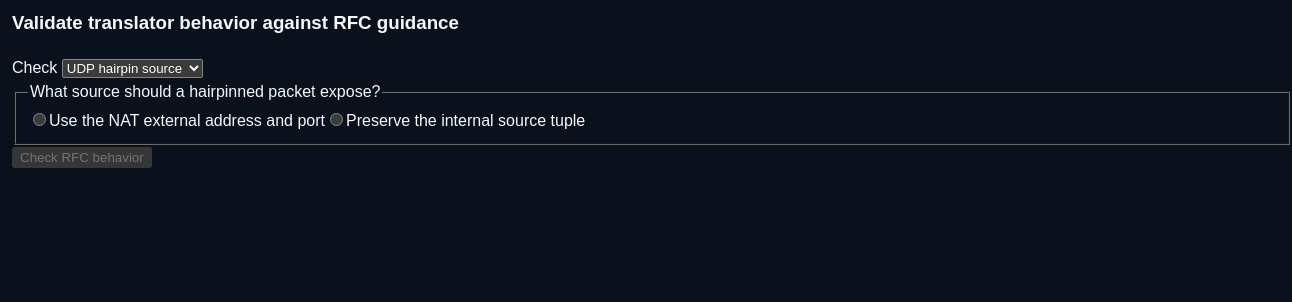
it: NAT RFC validation › reveals the RFC rule and operational consequence after every choice
What coordinates should you click on to do the following:
click the radio button labelled "Preserve the internal source tuple"
I would click on:
 (336, 120)
Its box is x1=330 y1=113 x2=343 y2=126.
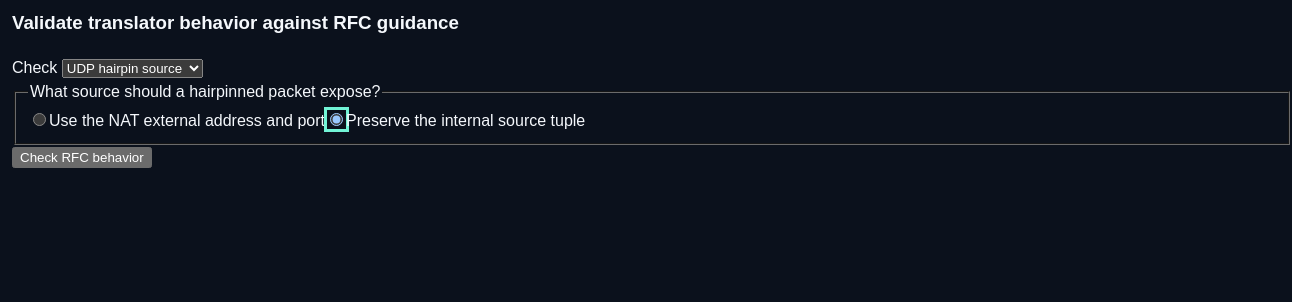
What coordinates should you click on to do the following:
click the button "Check RFC behavior"
I would click on:
 (82, 158)
Its box is x1=12 y1=147 x2=152 y2=168.
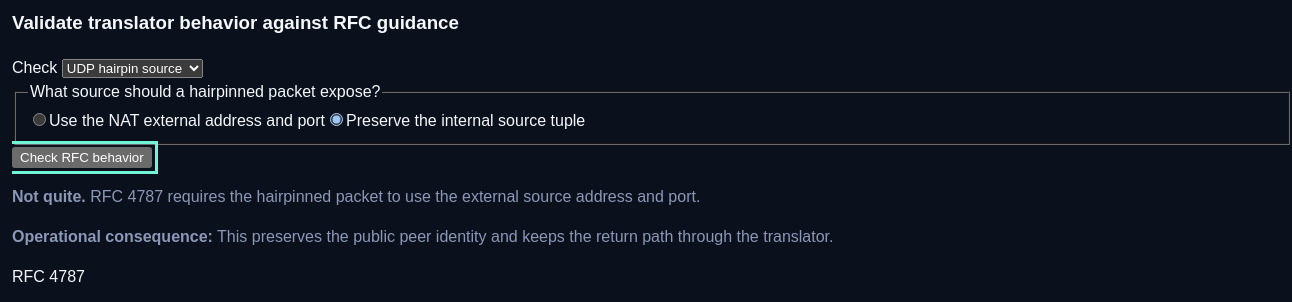
Expected: the message shows "RFC 4787", x1=12 y1=268 x2=85 y2=285
Expected: the message shows "return path", x1=217 y1=228 x2=834 y2=245
